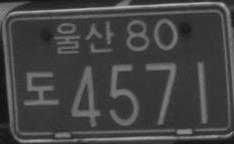1: (187, 61, 218, 124)
4: (69, 65, 102, 127)
5: (108, 63, 139, 127)
7: (145, 61, 176, 124)
8: (126, 19, 150, 52)
9: (153, 17, 178, 51)
도: (23, 70, 59, 107)
울산_O: (54, 20, 115, 54)
